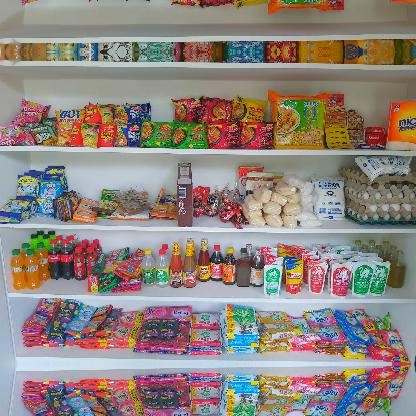Koko-Krunch: (176, 160, 194, 228)
